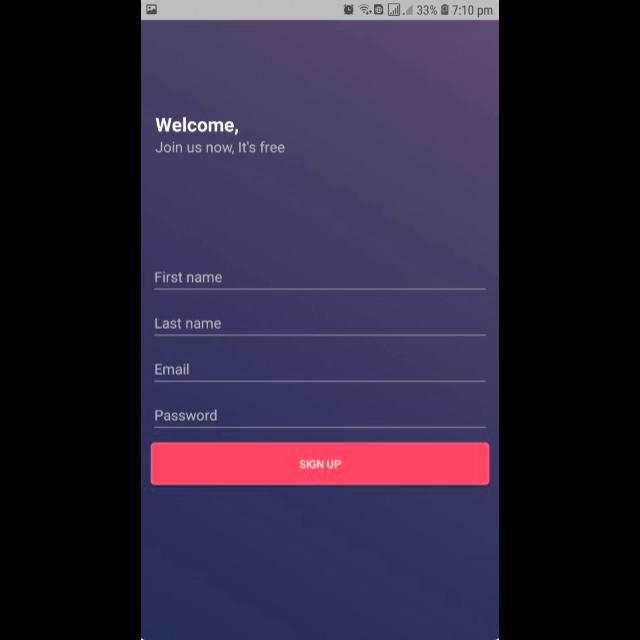input: (156, 363, 487, 383), (154, 318, 486, 337), (155, 409, 487, 428), (154, 272, 486, 290)
text: (156, 141, 286, 155), (155, 119, 239, 138), (155, 271, 223, 283), (156, 318, 222, 330), (156, 410, 218, 422), (155, 362, 191, 376)
textbutton: (152, 442, 490, 486)
uppertaskbar: (142, 1, 500, 21)
